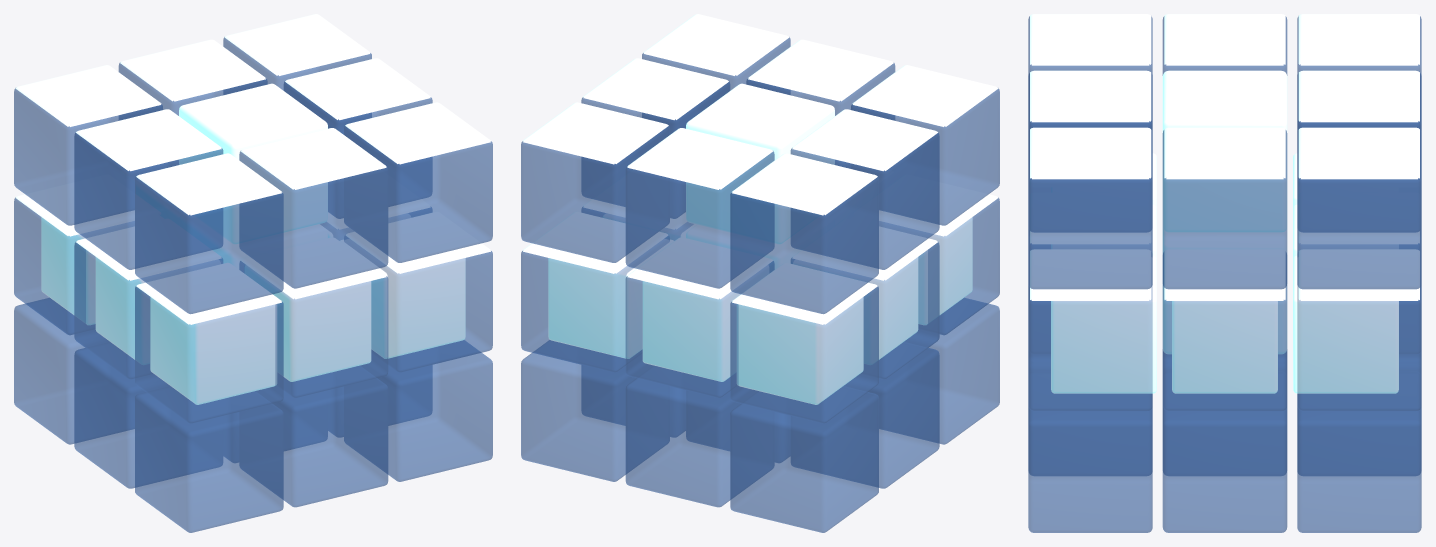
File: 01_hero_crystal_cluster.glb
The picture shows the model from 3 angles, left to right: view 1: azimuth 30°, elevation 25°; view 2: azimuth 150°, elevation 25°; view 3: azimuth 270°, elevation 25°; orthographic projection. The views are drawn at different scales.
Visible parts, largest first — view 1: HeroCube_03, HeroCube_02, HeroCube_12, HeroCube_21, HeroCube_01, HeroCube_10, HeroCube_19, HeroCube_06, HeroCube_11, HeroCube_09, HeroCube_20, HeroCube_04 (+18 smaller); view 2: HeroCube_09, HeroCube_08, HeroCube_18, HeroCube_27, HeroCube_07, HeroCube_16, HeroCube_25, HeroCube_06, HeroCube_17, HeroCube_03, HeroCube_26, HeroCube_04 (+18 smaller); view 3: HeroCube_24, HeroCube_23, HeroCube_21, HeroCube_27, HeroCube_20, HeroCube_26, HeroCube_19, HeroCube_25, HeroCube_22, HeroCube_12, HeroCube_18, HeroCube_15 (+18 smaller).
Boxes of the visible parts, bbox=[...] form: HeroCube_03: bbox=[135, 153, 283, 313]; HeroCube_02: bbox=[135, 263, 283, 423]; HeroCube_12: bbox=[239, 128, 388, 288]; HeroCube_21: bbox=[344, 102, 492, 262]; HeroCube_01: bbox=[135, 386, 283, 532]; HeroCube_10: bbox=[239, 366, 388, 507]; HeroCube_19: bbox=[344, 340, 492, 481]; HeroCube_06: bbox=[74, 109, 223, 269]; HeroCube_11: bbox=[239, 237, 388, 397]; HeroCube_09: bbox=[14, 65, 162, 225]; HeroCube_20: bbox=[344, 212, 492, 372]; HeroCube_04: bbox=[74, 342, 222, 488]; HeroCube_09: bbox=[730, 153, 878, 313]; HeroCube_08: bbox=[730, 263, 878, 423]; HeroCube_18: bbox=[625, 128, 774, 288]; HeroCube_27: bbox=[521, 102, 669, 262]; HeroCube_07: bbox=[730, 386, 878, 532]; HeroCube_16: bbox=[625, 366, 774, 507]; HeroCube_25: bbox=[521, 340, 669, 481]; HeroCube_06: bbox=[790, 109, 939, 269]; HeroCube_17: bbox=[625, 237, 774, 397]; HeroCube_03: bbox=[851, 65, 999, 225]; HeroCube_26: bbox=[521, 212, 669, 372]; HeroCube_04: bbox=[791, 342, 939, 488]; HeroCube_24: bbox=[1162, 127, 1287, 289]; HeroCube_23: bbox=[1162, 249, 1287, 411]; HeroCube_21: bbox=[1028, 127, 1152, 289]; HeroCube_27: bbox=[1297, 127, 1421, 289]; HeroCube_20: bbox=[1028, 249, 1152, 411]; HeroCube_26: bbox=[1297, 249, 1421, 411]; HeroCube_19: bbox=[1028, 371, 1152, 532]; HeroCube_25: bbox=[1297, 371, 1421, 532]; HeroCube_22: bbox=[1162, 371, 1287, 532]; HeroCube_12: bbox=[1028, 70, 1152, 232]; HeroCube_18: bbox=[1297, 70, 1421, 232]; HeroCube_15: bbox=[1162, 70, 1287, 232].
Bounding box in the file's own units: 3.16 × 3.16 × 3.16.
